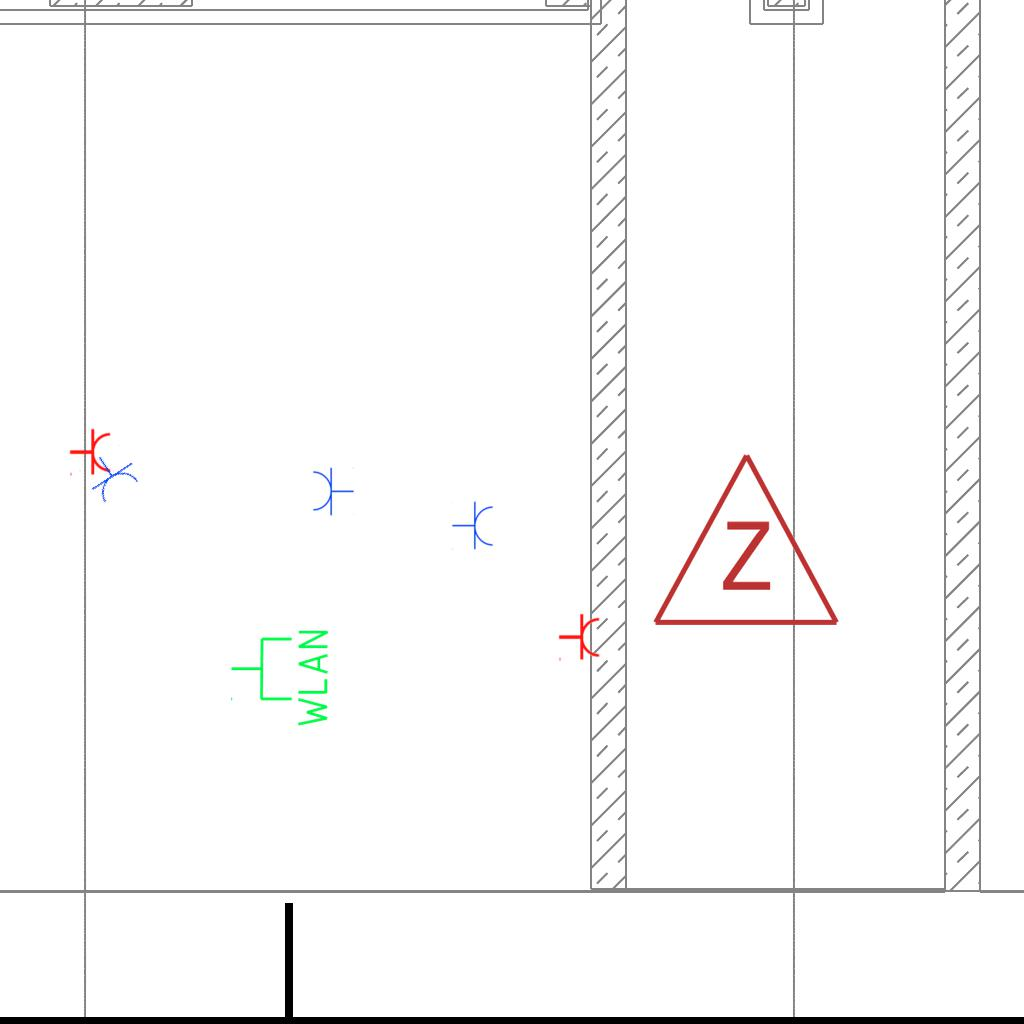Schukosteckdose_einfach: (78, 443, 144, 508), (452, 501, 495, 551), (69, 428, 112, 478), (311, 466, 354, 516), (558, 613, 601, 663)
WLAN: (228, 626, 332, 731)
Zimmersignalleuchte: (646, 440, 842, 640)
